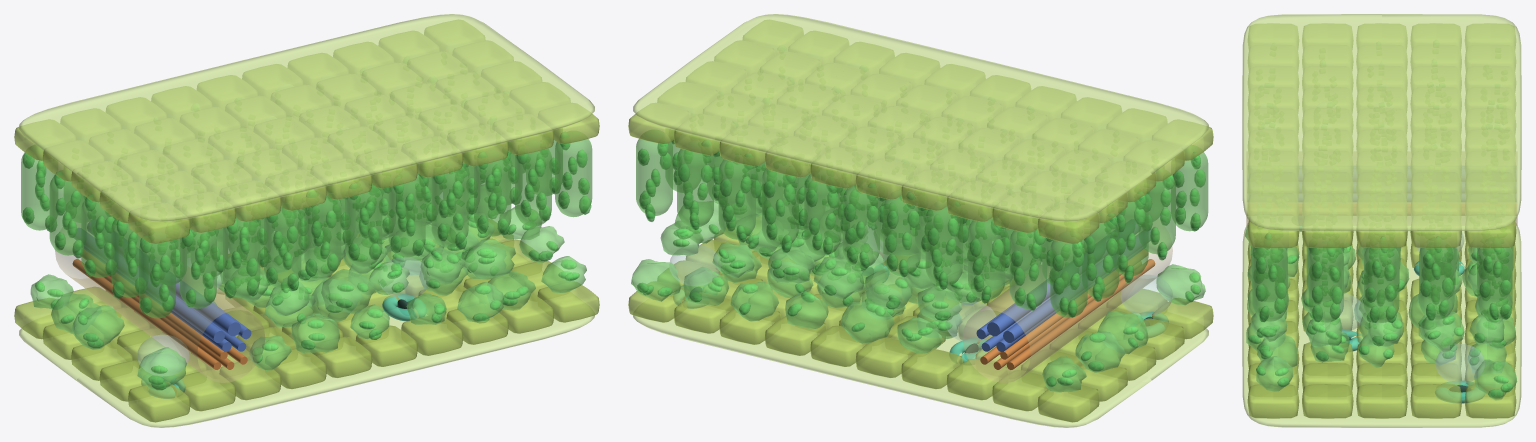
Rendered from leaf.glb.
3 views of the same model, side by side, from view 1: azimuth 30°, elevation 25°; view 2: azimuth 150°, elevation 25°; view 3: azimuth 270°, elevation 25° (orthographic). The views are drawn at different scales.
Parts seen in each view (by area): view 1: Cuticle_Mesh (×2), Epidermis_Upper_Mesh (×50), Epidermis_Lower_Mesh (×26), LeafSection, Palisade_15_Mesh, Palisade_5_Mesh, Palisade_20_Mesh, Palisade_45_Mesh, Palisade_55_Mesh, Palisade_35_Mesh, Palisade_40_Mesh, Palisade_10_Mesh (+62 smaller); view 2: Cuticle_Mesh (×2), Epidermis_Upper_Mesh (×50), Epidermis_Lower_Mesh (×27), LeafSection, Palisade_1_Mesh, Palisade_11_Mesh, Palisade_6_Mesh, Palisade_16_Mesh, Palisade_41_Mesh, Palisade_51_Mesh, Palisade_31_Mesh, Palisade_26_Mesh (+63 smaller); view 3: Cuticle_Mesh (×2), Epidermis_Upper_Mesh (×50), Epidermis_Lower_Mesh (×29), Palisade_52_Mesh, Palisade_51_Mesh, Palisade_53_Mesh, Palisade_54_Mesh, Palisade_55_Mesh, Stoma_3_Mesh, Spongy_53_Mesh, Spongy_60_Mesh, LeafSection (+38 smaller).
Part boxes in pixels (x1,y1,x2,y2): Cuticle_Mesh (×2): (19, 14, 594, 427); Epidermis_Upper_Mesh (×50): (14, 20, 599, 243); Epidermis_Lower_Mesh (×26): (14, 239, 599, 422); LeafSection: (55, 221, 264, 382); Palisade_15_Mesh: (223, 212, 260, 298); Palisade_5_Mesh: (139, 232, 175, 318); Palisade_20_Mesh: (264, 203, 301, 288); Palisade_45_Mesh: (474, 150, 511, 236); Palisade_55_Mesh: (555, 131, 592, 216); Palisade_35_Mesh: (388, 171, 425, 257); Palisade_40_Mesh: (431, 162, 468, 247); Palisade_10_Mesh: (180, 222, 216, 308); Cuticle_Mesh (×2): (633, 14, 1208, 427); Epidermis_Upper_Mesh (×50): (628, 20, 1213, 243); Epidermis_Lower_Mesh (×27): (628, 239, 1213, 422); LeafSection: (963, 222, 1172, 382); Palisade_1_Mesh: (1050, 231, 1087, 317); Palisade_11_Mesh: (968, 214, 1005, 299); Palisade_6_Mesh: (1009, 223, 1046, 308); Palisade_16_Mesh: (925, 200, 962, 286); Palisade_41_Mesh: (718, 154, 755, 239); Palisade_51_Mesh: (636, 130, 672, 215); Palisade_31_Mesh: (804, 169, 841, 255); Palisade_26_Mesh: (842, 183, 879, 268); Cuticle_Mesh (×2): (1242, 14, 1521, 427); Epidermis_Upper_Mesh (×50): (1247, 23, 1516, 248); Epidermis_Lower_Mesh (×29): (1247, 258, 1516, 418); Palisade_52_Mesh: (1419, 237, 1454, 319); Palisade_51_Mesh: (1477, 237, 1512, 319); Palisade_53_Mesh: (1364, 241, 1399, 322); Palisade_54_Mesh: (1308, 240, 1343, 322); Palisade_55_Mesh: (1252, 239, 1287, 321); Stoma_3_Mesh: (1435, 344, 1484, 383); Spongy_53_Mesh: (1420, 310, 1464, 352); Spongy_60_Mesh: (1474, 359, 1517, 400); LeafSection: (1246, 152, 1517, 225).
Bounding box in the file's own units: 4.88 × 2.15 × 2.68.
